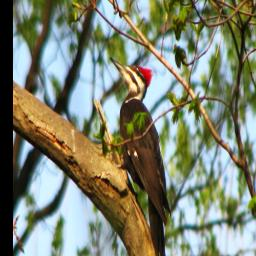Woodpecker: (106, 52, 173, 256)
